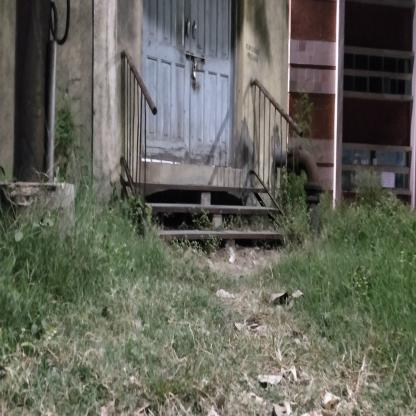stairs: (152, 182, 268, 252)
